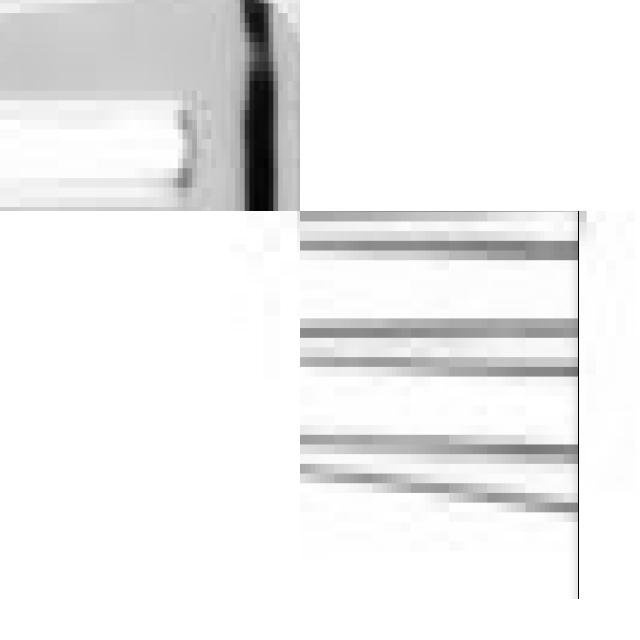forks: (300, 211, 631, 547), (0, 0, 300, 211)
